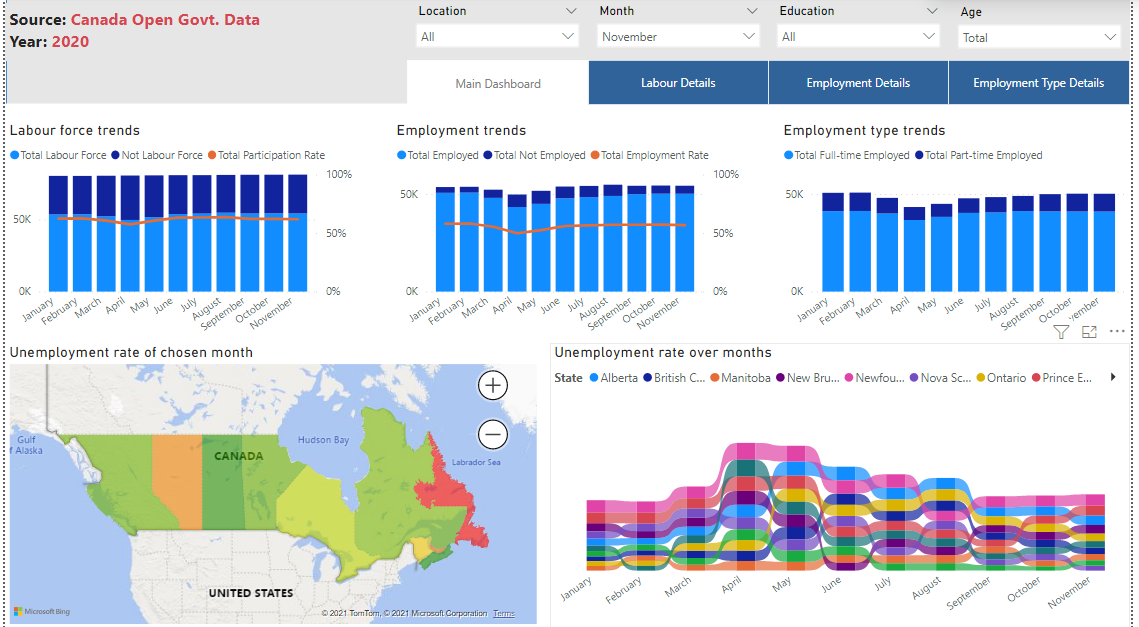

The dashboard page shown, as its layout file describes it:
{"tool":"powerbi","page":{"name":"Main Dashboard","canvas":[1280,720],"ordinal":0},"visuals":[{"type":"shape","box":[0,1.3,1280,120.8],"z":0},{"type":"slicer","fields":{"Values":["data-2020.Location"]},"box":[457.8,2.6,205.6,68.1],"z":1000},{"type":"slicer","fields":{"Values":["data-2020.Age"]},"box":[1073.4,3,206,68],"z":2000},{"type":"slicer","fields":{"Values":["data-2020.Education"]},"box":[867.8,2.6,205.6,68.1],"z":3000},{"type":"lineStackedColumnComboChart","title":"Labour force trends","fields":{"Category":["data-2020.Date.Variation.Date Hierarchy.Quarter","data-2020.Date.Variation.Date Hierarchy.Month"],"Y":["data-2020.Labour Force","data-2020.Not_Labour_Force"],"Y2":["data-2020.Participation rate"]},"box":[0,141.4,399.7,262.2],"z":4000},{"type":"lineStackedColumnComboChart","title":"Employment trends","fields":{"Category":["data-2020.Date.Variation.Date Hierarchy.Quarter","data-2020.Date.Variation.Date Hierarchy.Month"],"Y":["data-2020.Employed","data-2020.UnEmployed"],"Y2":["data-2020.Employment rate"]},"box":[440.2,141.4,399.7,262.2],"z":5000},{"type":"lineStackedColumnComboChart","title":"Employment type trends","fields":{"Category":["data-2020.Date.Variation.Date Hierarchy.Quarter","data-2020.Date.Variation.Date Hierarchy.Month"],"Y":["data-2020.Full-time","data-2020.Part-time"]},"box":[880.3,141.4,399.7,262.2],"z":6000},{"type":"slicer","fields":{"Values":["data-2020.Date.Variation.Date Hierarchy.Month"]},"box":[663.4,2.6,205.6,68.1],"z":7000},{"type":"ribbonChart","title":"Unemployment rate over months","fields":{"Category":["data-2020.Date.Variation.Date Hierarchy.Month"],"Series":["data-2020.Location"],"Y":["data-2020.UnEmployment rate"]},"box":[619.7,393.1,660.3,326.9],"z":8000},{"type":"filledMap","title":"Unemployment rate of chosen month","fields":{"Category":["data-2020.Location"]},"box":[0,393.6,609.9,325.3],"z":9000},{"type":"actionButton","box":[457.5,72,205.6,51.4],"z":10000},{"type":"actionButton","box":[663.1,72,205.6,51.4],"z":11000},{"type":"actionButton","box":[867.5,72,205.6,51.4],"z":12000},{"type":"actionButton","box":[1073.1,72,206.9,51.4],"z":13000},{"type":"textbox","box":[0,6.4,317.4,65.5],"z":14000}]}

Visuals, with their boxes in screenshot pixels (x1, y1, x2, y2), scaled from the page's 1280x720 canvas onto the 1139x627 screenshot:
shape: {"left": 0, "top": 1, "right": 1138, "bottom": 106}
slicer - data-2020.Location: {"left": 407, "top": 2, "right": 590, "bottom": 62}
slicer - data-2020.Age: {"left": 955, "top": 3, "right": 1138, "bottom": 62}
slicer - data-2020.Education: {"left": 772, "top": 2, "right": 955, "bottom": 62}
"Labour force trends" lineStackedColumnComboChart: {"left": 0, "top": 123, "right": 356, "bottom": 351}
"Employment trends" lineStackedColumnComboChart: {"left": 392, "top": 123, "right": 747, "bottom": 351}
"Employment type trends" lineStackedColumnComboChart: {"left": 783, "top": 123, "right": 1138, "bottom": 351}
slicer - data-2020.Date.Variation.Date Hierarchy.Month: {"left": 590, "top": 2, "right": 773, "bottom": 62}
"Unemployment rate over months" ribbonChart: {"left": 551, "top": 342, "right": 1138, "bottom": 626}
"Unemployment rate of chosen month" filledMap: {"left": 0, "top": 343, "right": 543, "bottom": 626}
actionButton: {"left": 407, "top": 63, "right": 590, "bottom": 107}
actionButton: {"left": 590, "top": 63, "right": 773, "bottom": 107}
actionButton: {"left": 772, "top": 63, "right": 955, "bottom": 107}
actionButton: {"left": 955, "top": 63, "right": 1138, "bottom": 107}
textbox: {"left": 0, "top": 6, "right": 282, "bottom": 63}
